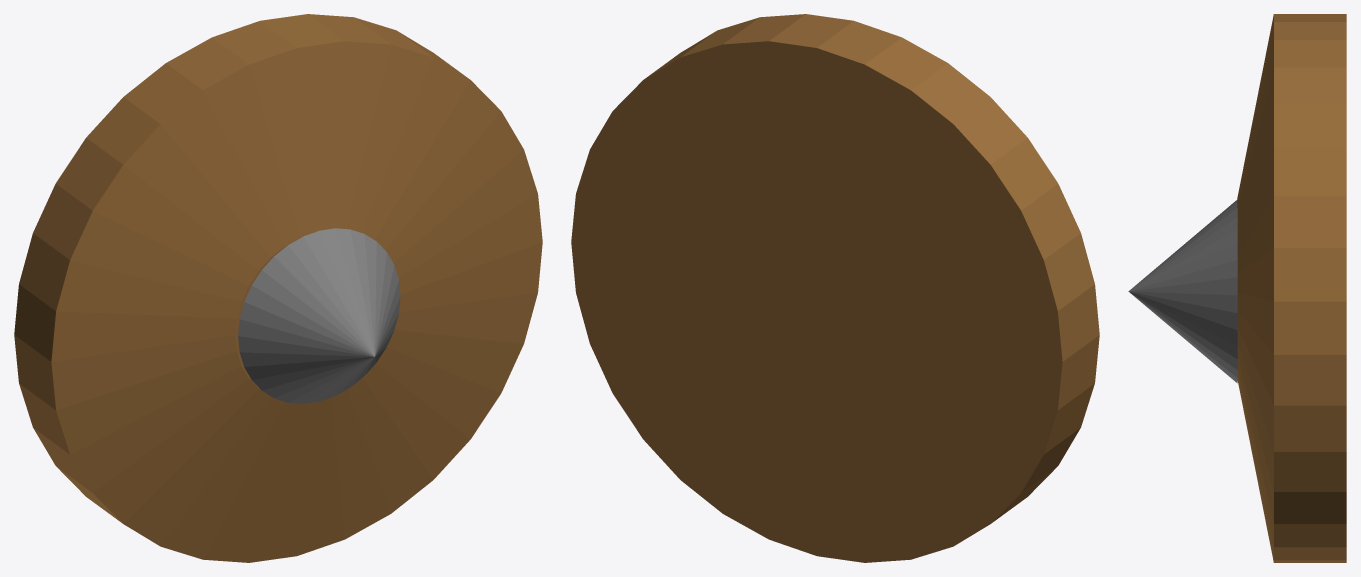
Rendered from Shield.fbx.
The picture shows the model from 3 angles, left to right: view 1: azimuth 30°, elevation 25°; view 2: azimuth 150°, elevation 25°; view 3: azimuth 270°, elevation 25°; orthographic projection. The views are drawn at different scales.
Parts seen in each view (by area): view 1: Cylinder, Cone; view 2: Cylinder; view 3: Cylinder, Cone.
Boxes of the visible parts, x1=… form: Cylinder: x1=14, y1=14, x2=542, y2=562; Cone: x1=238, y1=228, x2=400, y2=403; Cylinder: x1=571, y1=14, x2=1099, y2=562; Cylinder: x1=1237, y1=14, x2=1346, y2=562; Cone: x1=1128, y1=200, x2=1237, y2=383.
Bounding box in the file's own units: 1015 × 1003 × 399.
